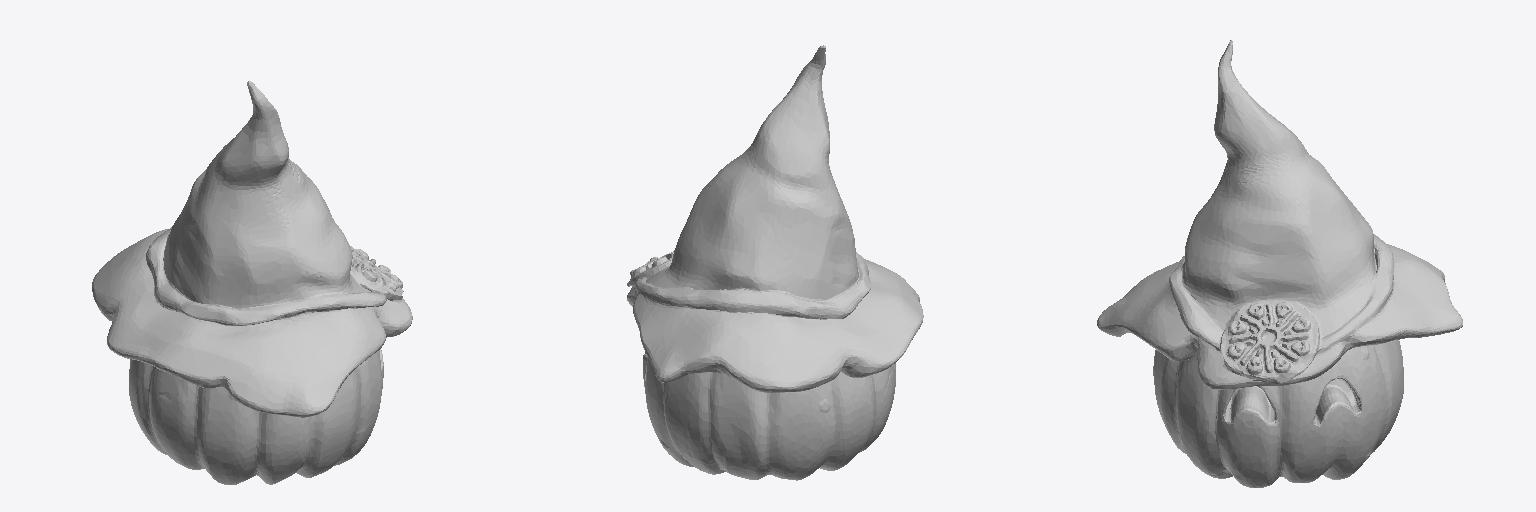
File: PumpkinWithHead.obj
The picture shows the model from 3 angles: view 1: azimuth 30°, elevation 25°; view 2: azimuth 150°, elevation 25°; view 3: azimuth 270°, elevation 25°; orthographic projection.
Visible parts, largest first — view 1: PumpkinWithHead; view 2: PumpkinWithHead; view 3: PumpkinWithHead.
Part boxes in pixels (x1,y1,x2,y2): PumpkinWithHead: (92,81,412,484); PumpkinWithHead: (627,45,923,480); PumpkinWithHead: (1097,40,1462,487).
Bounding box in the file's own units: 7.34 × 10.34 × 8.56.